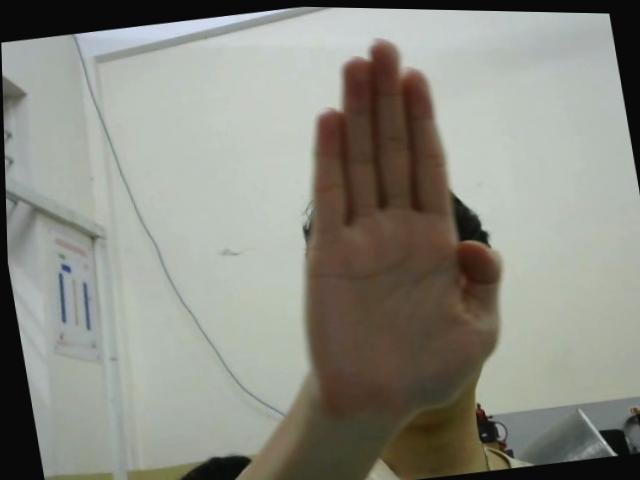B: (255, 21, 523, 422)
